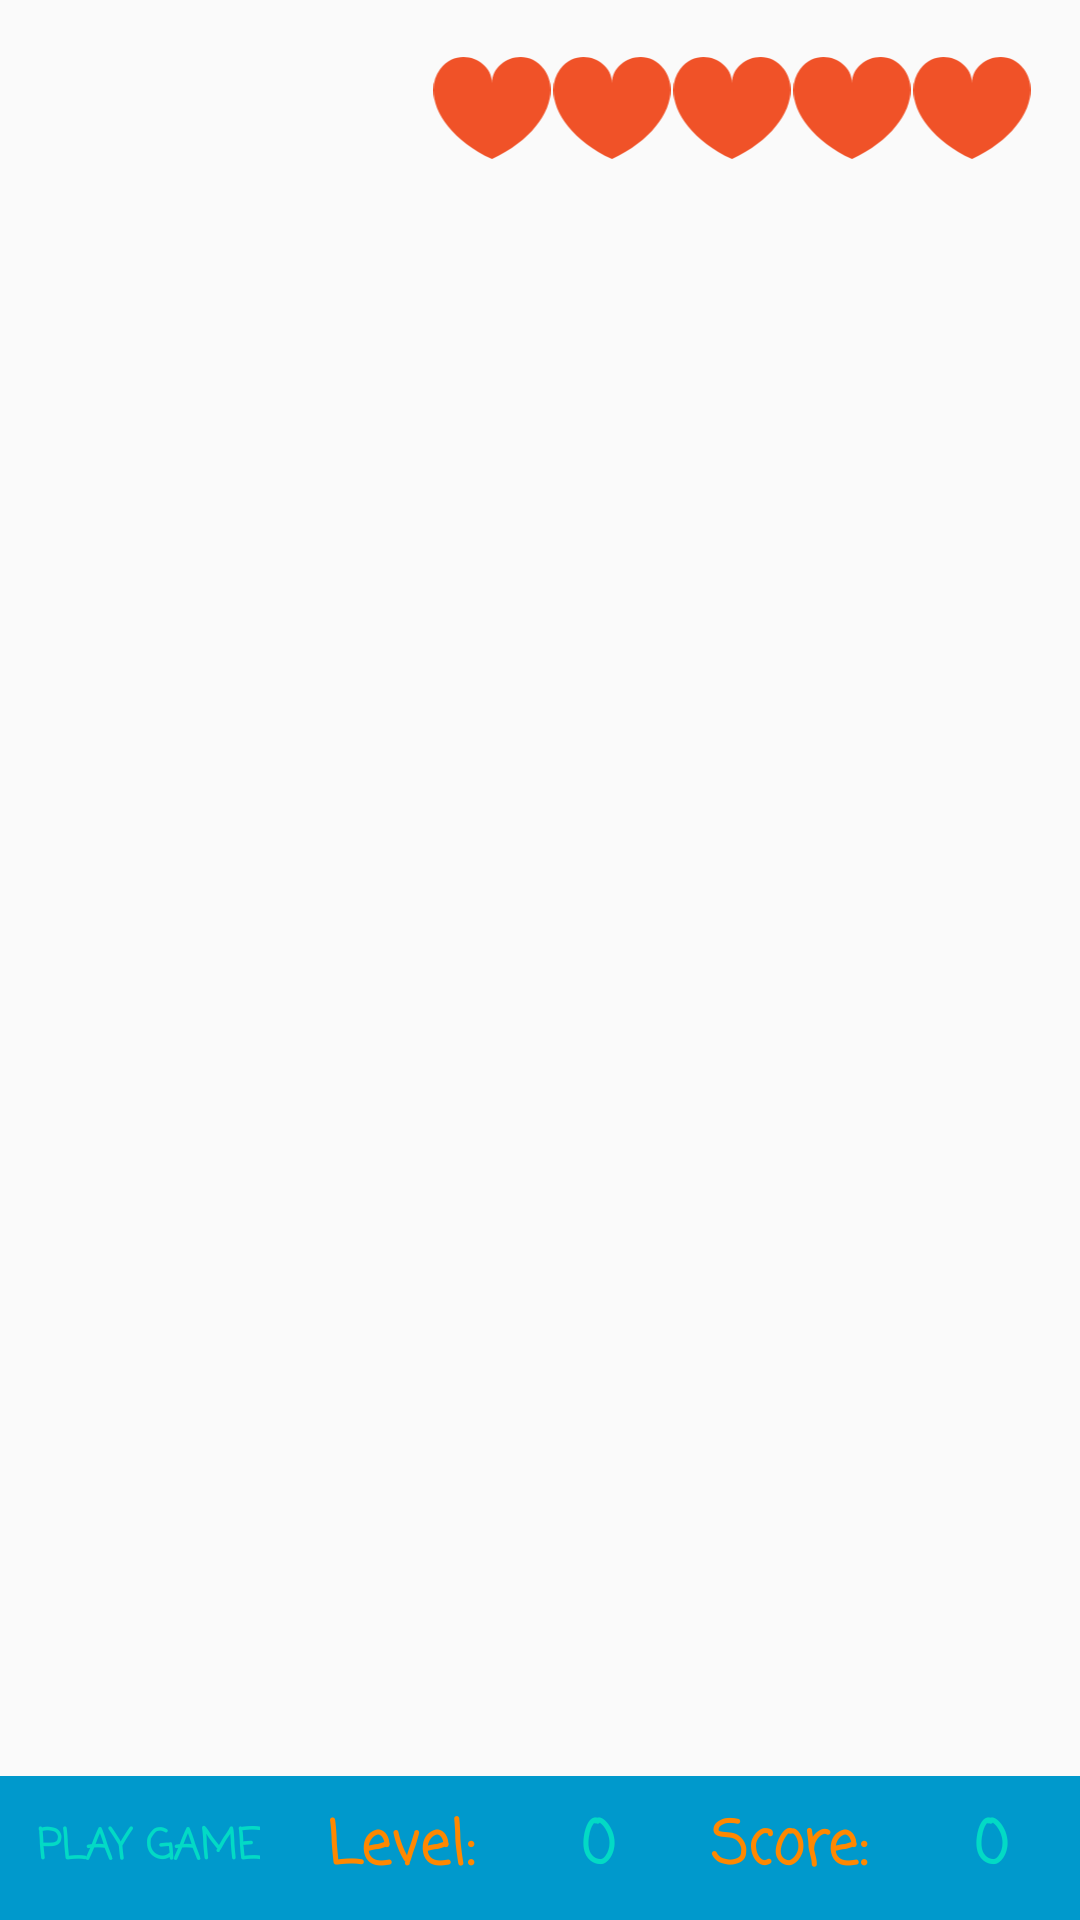

Named icons in this screenshot (1080 x 1920) and their bounding boxes, (x1, y1, x2, y2):
Game life: (433, 57, 551, 159), (553, 57, 671, 159), (673, 57, 791, 159), (793, 57, 911, 159), (913, 57, 1031, 159)
